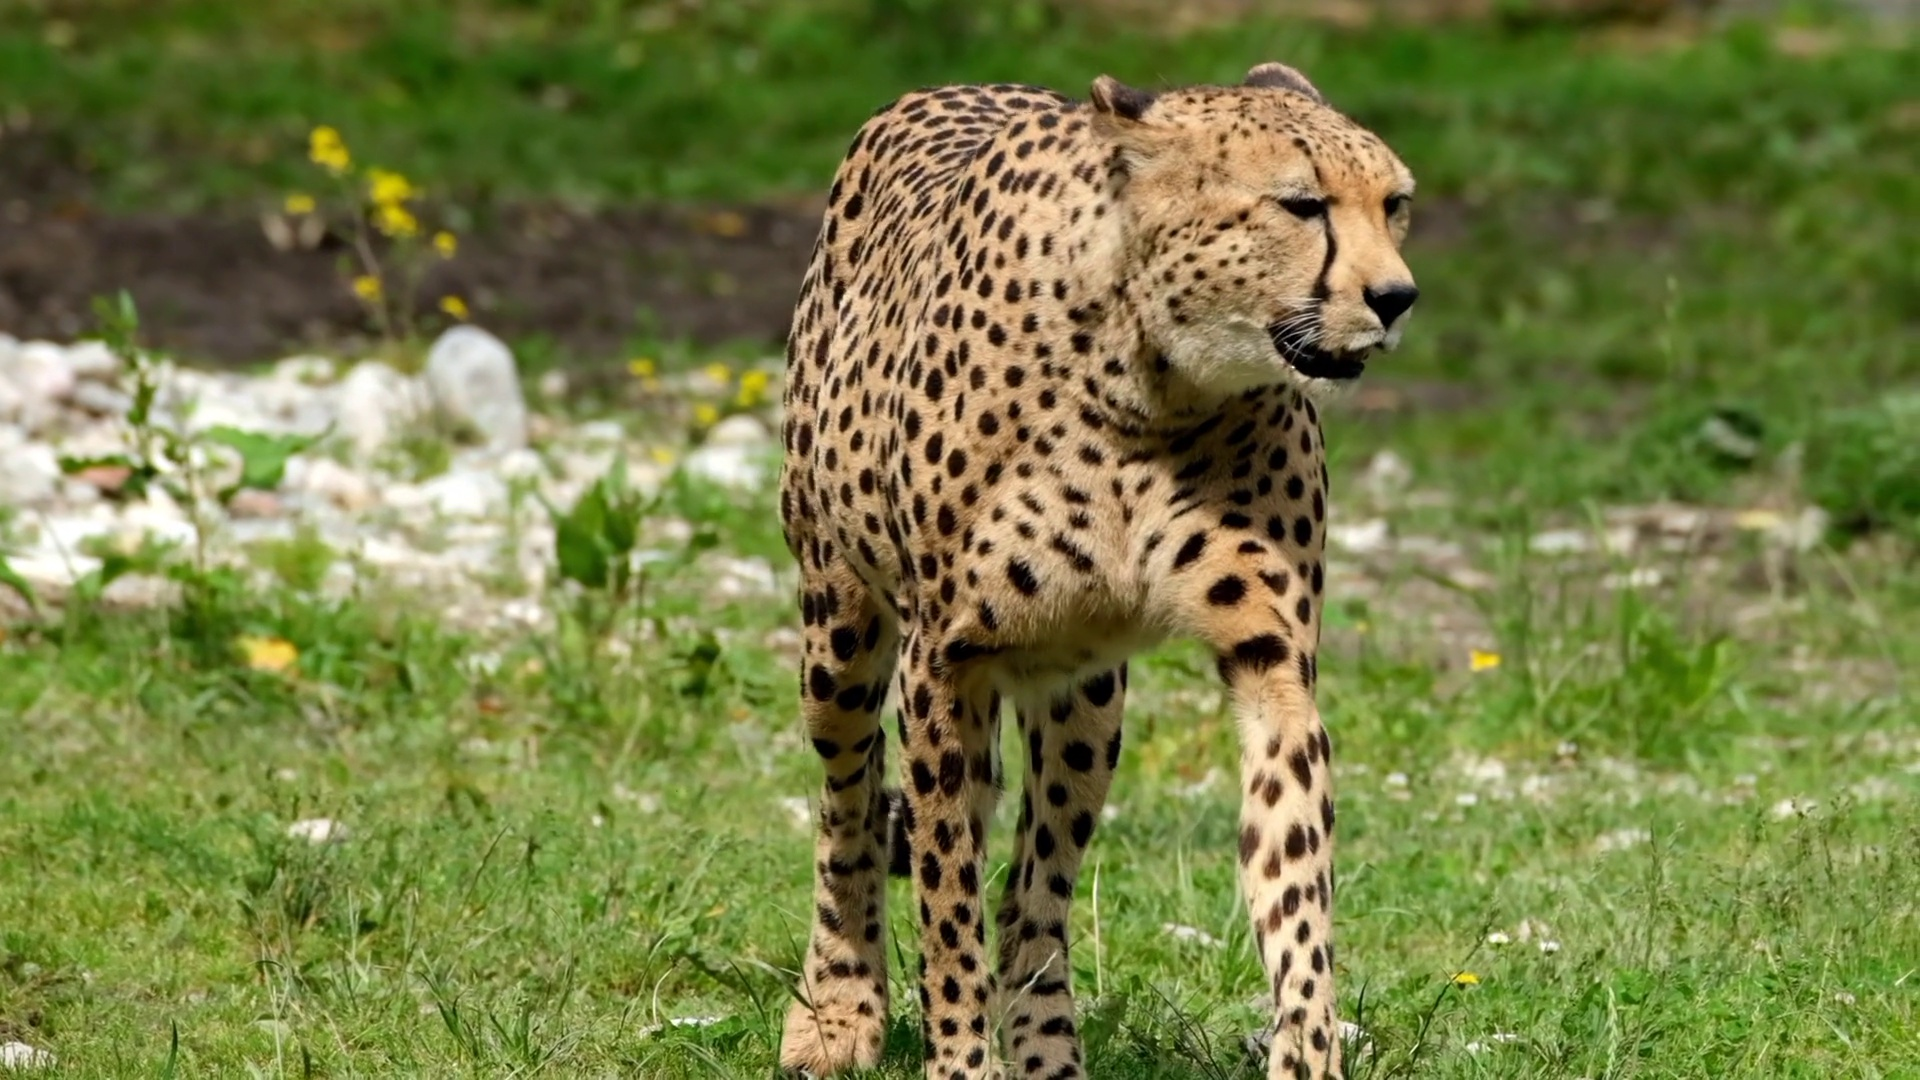Cheetah: (771, 59, 1425, 1080)
